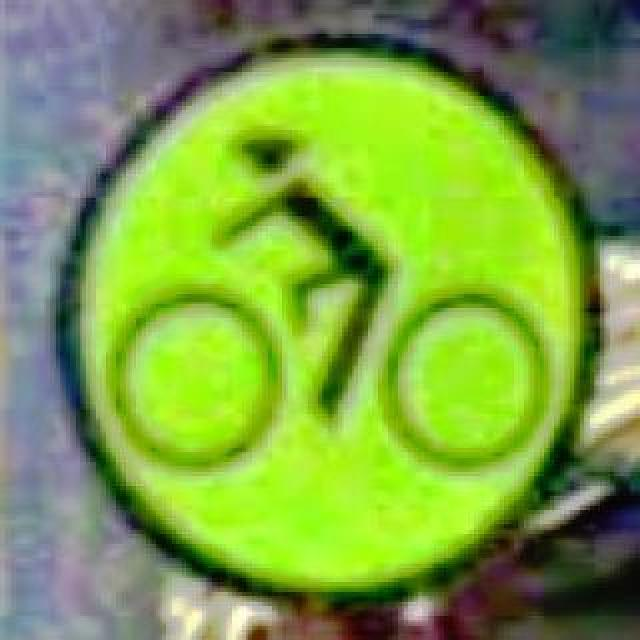bike lane: (50, 24, 600, 602)
